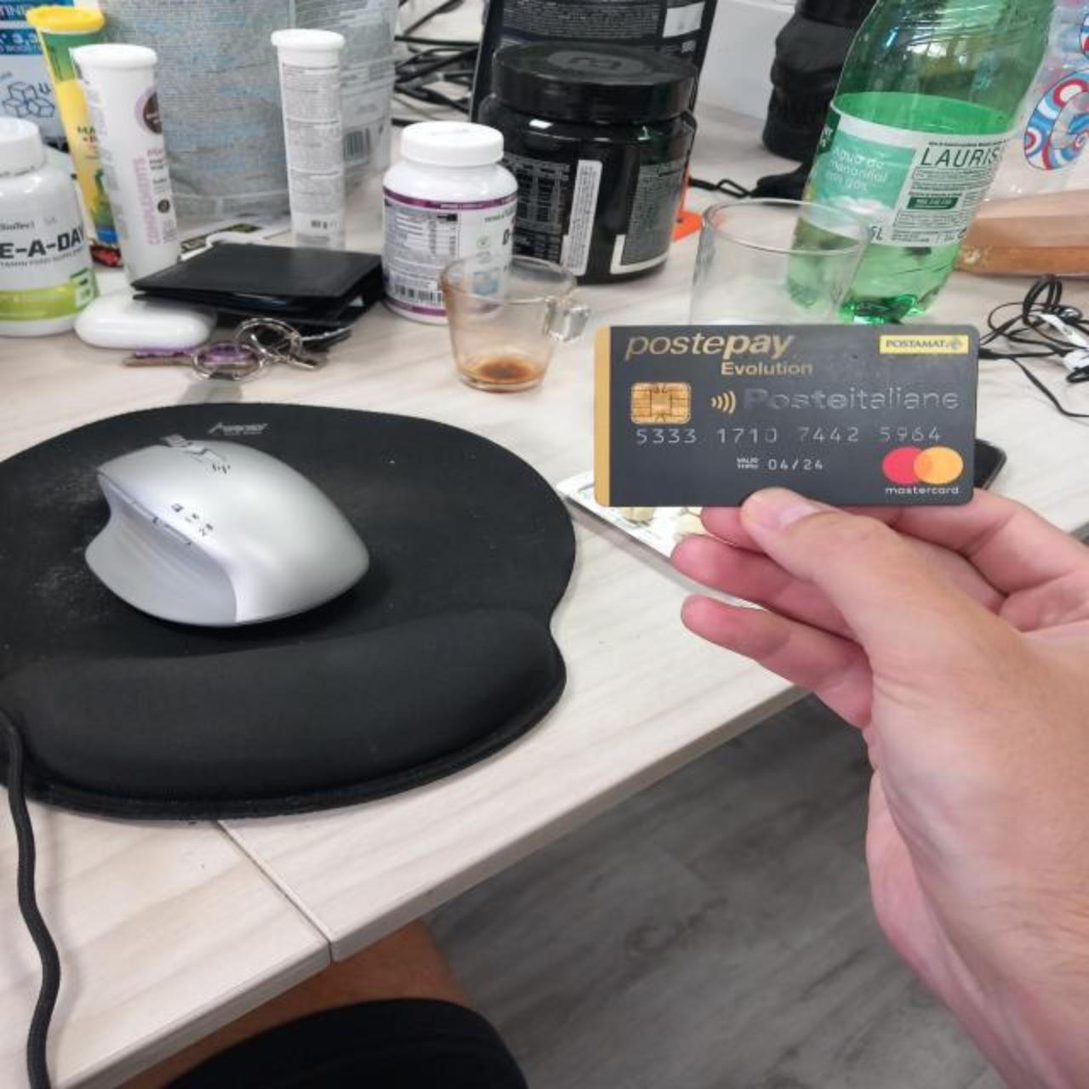credit_card: (593, 324, 981, 506)
